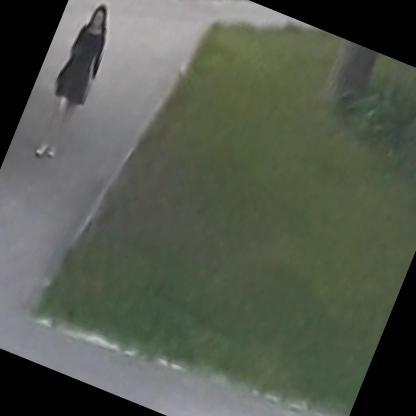Human Body: (8, 0, 131, 181)
